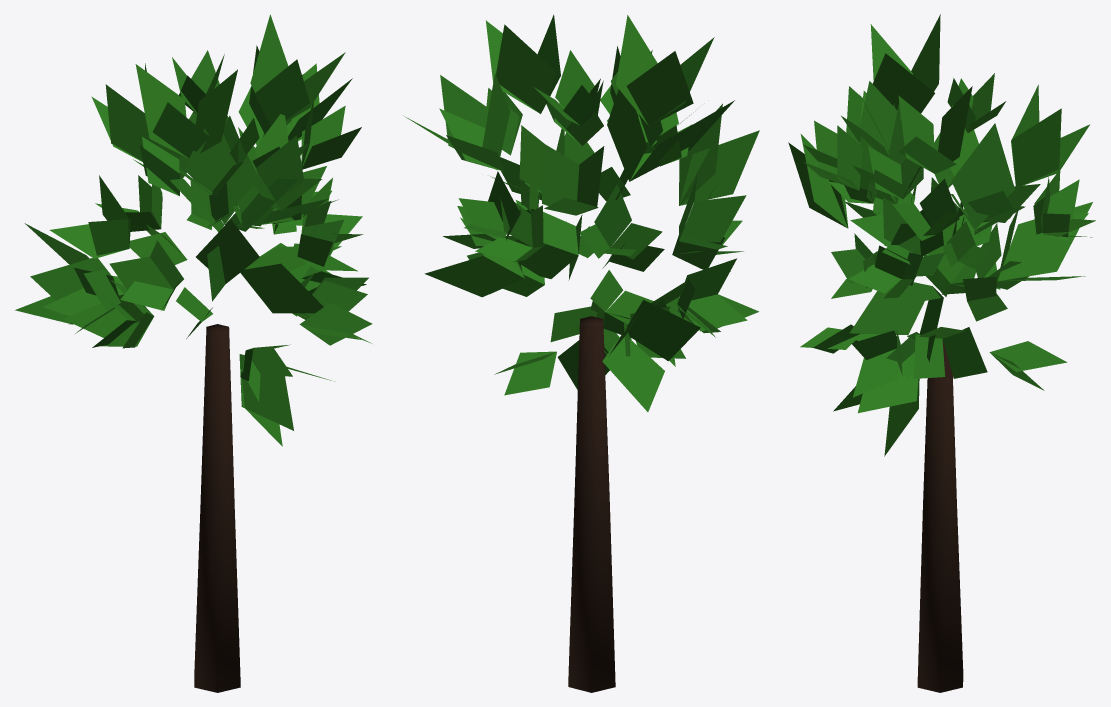
Rendered from Tree_08_A_LOD2.obj.
3 renders of one model, left to right at view 1: azimuth 30°, elevation 25°; view 2: azimuth 150°, elevation 25°; view 3: azimuth 270°, elevation 25°, orthographic. The views are drawn at different scales.
Parts seen in each view (by area): view 1: Leaves, Trunk; view 2: Leaves, Trunk; view 3: Leaves, Trunk.
Boxes of the visible parts, x1=… form: Leaves: x1=15, y1=14, x2=372, y2=446; Trunk: x1=194, y1=324, x2=240, y2=692; Leaves: x1=404, y1=14, x2=759, y2=411; Trunk: x1=568, y1=316, x2=615, y2=692; Leaves: x1=788, y1=14, x2=1095, y2=456; Trunk: x1=917, y1=340, x2=963, y2=692.
Bounding box in the file's own units: 4.6 × 9.58 × 4.25.
